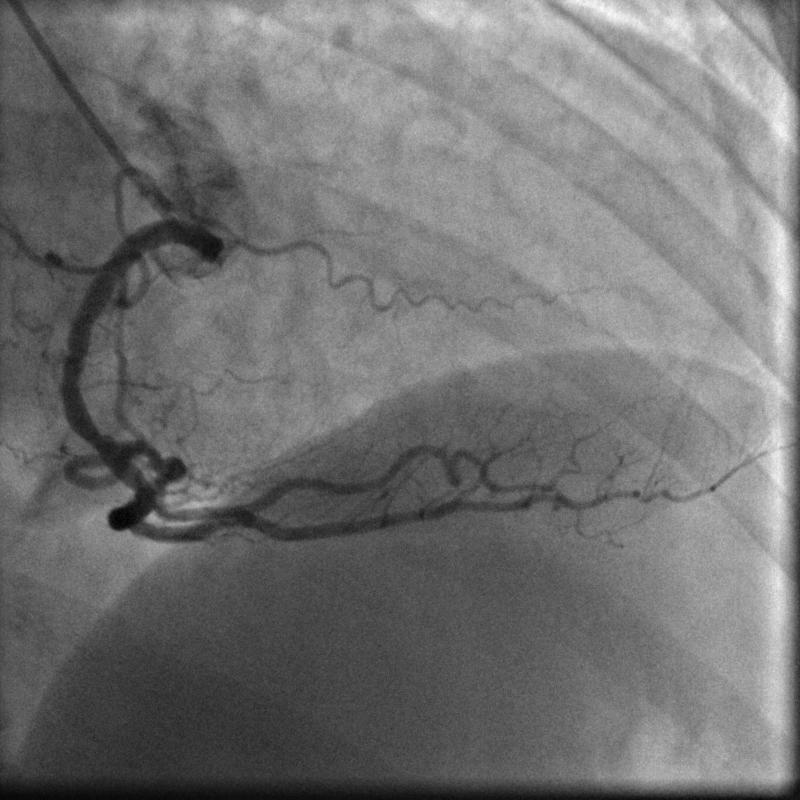Stenosis: (74, 427, 130, 463)
